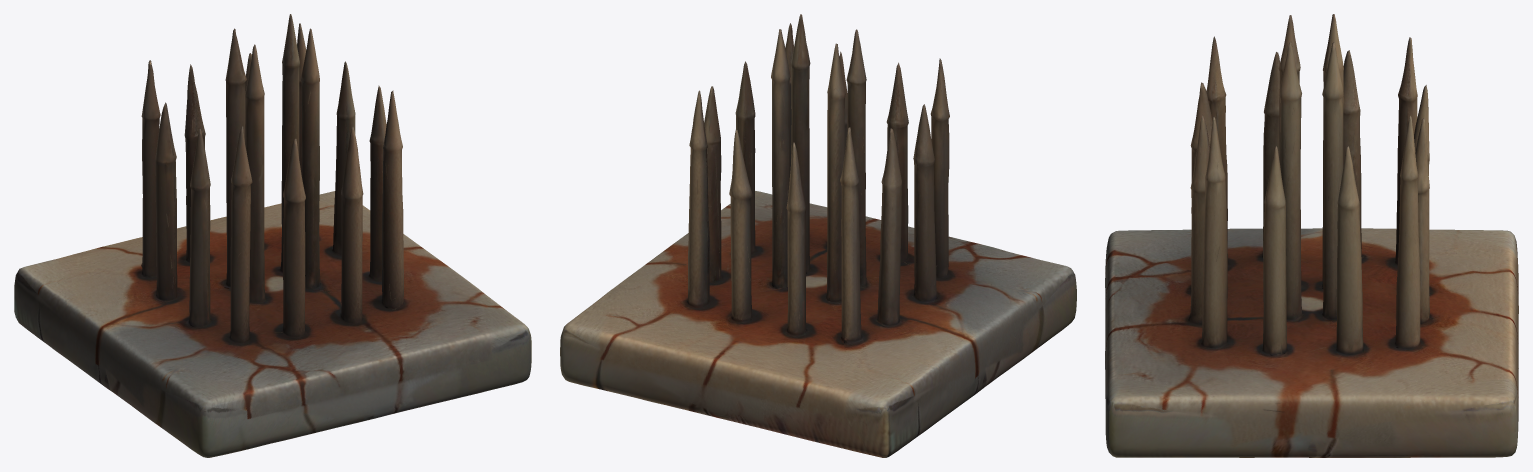
File: spike_trap.glb
The picture shows the model from 3 angles, left to right: view 1: azimuth 30°, elevation 25°; view 2: azimuth 150°, elevation 25°; view 3: azimuth 270°, elevation 25°; orthographic projection. The views are drawn at different scales.
Bounding box in the file's own units: 2 × 1.86 × 2.
1 material, 1 textured.
